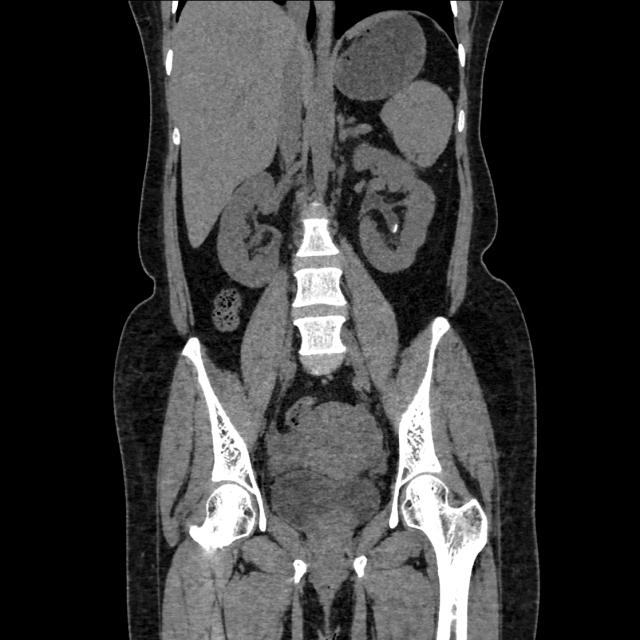kidney: (361, 149, 423, 268), (224, 181, 281, 279)
stone: (393, 223, 397, 232)
